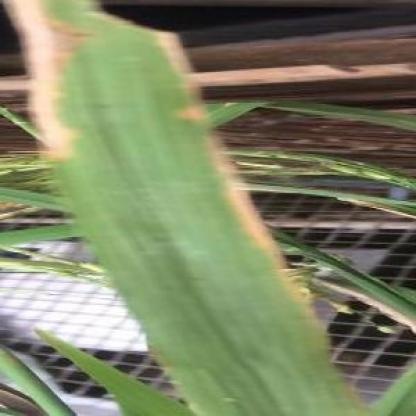Blight: (7, 1, 375, 416)
